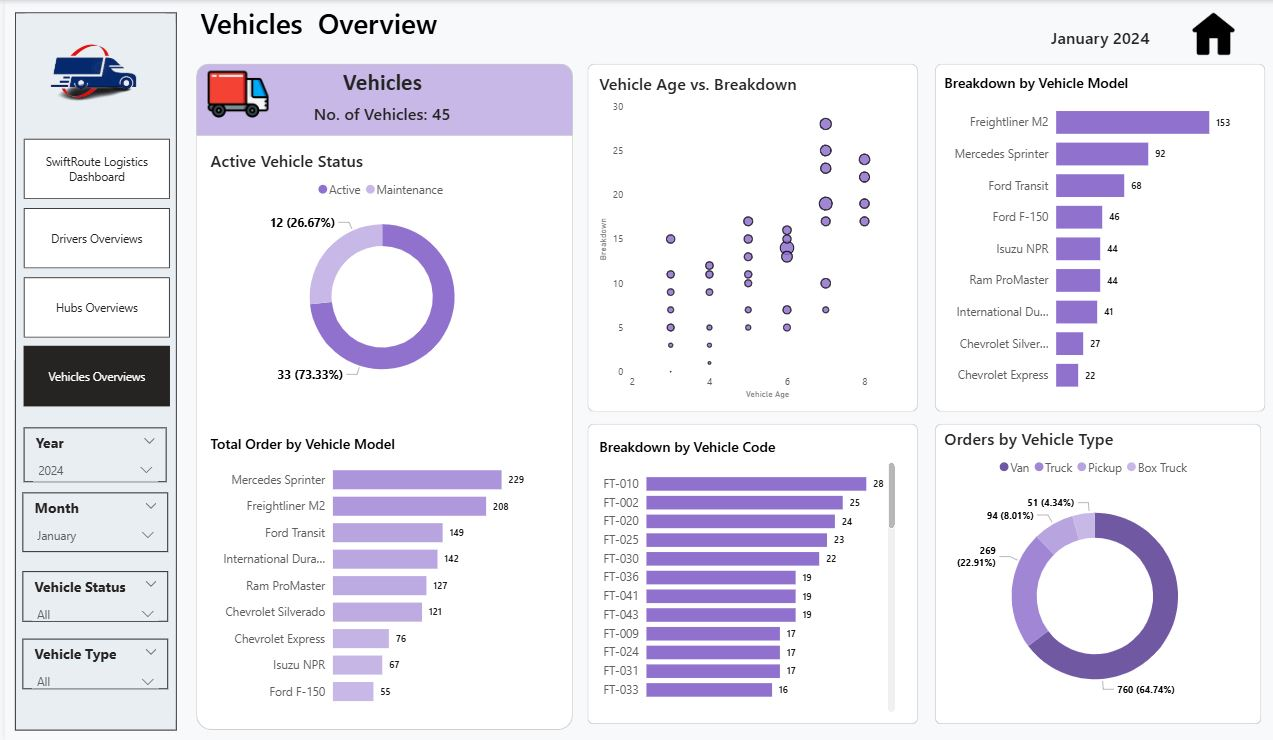

The dashboard page shown, as its layout file describes it:
{"tool":"powerbi","page":{"name":"Vehicles Overviews","canvas":[1450,850],"ordinal":3},"visuals":[{"type":"shape","box":[10.9,14,185,820.8],"z":0},{"type":"textbox","box":[219.2,0,505.2,57.5],"z":1000},{"type":"slicer","fields":{"Values":["Date Table.Year"]},"box":[21.5,488.4,163.2,62.2],"z":2000},{"type":"slicer","fields":{"Values":["Date Table.Month"]},"box":[19.9,563,166.3,68.4],"z":3000},{"type":"image","box":[20.2,24.9,164.8,113.5],"z":4000},{"type":"cardVisual","fields":{"Data":["Selected Measures.Year Month Title"]},"box":[1123.9,14,258,54.4],"z":5000},{"type":"shape","box":[665.3,73.1,377.7,397.9],"z":6000},{"type":"image","box":[1350.8,9.3,62.2,57.5],"z":7000},{"type":"slicer","fields":{"Values":["Vehicles.Vehicle Status"]},"box":[19.9,653.2,166.3,57.5],"z":8000},{"type":"slicer","fields":{"Values":["Orders.Vehicle Type"]},"box":[19.9,730.9,166.3,57.5],"z":9000},{"type":"shape","box":[219.2,73.1,430.6,761.7],"z":10000},{"type":"shape","box":[219.2,73.1,430.6,82.4],"z":11000},{"type":"cardVisual","fields":{"Data":["Selected Measures.No. Of Vehicles"]},"box":[320.2,101,222.3,54.4],"z":12000},{"type":"textbox","box":[342,73.1,180.3,52.9],"z":13000},{"type":"donutChart","title":"Active Vehicle  Status","fields":{"Category":["Vehicles.Vehicle Status"],"Y":["CountNonNull(Vehicles.Vehicle ID)"]},"box":[230.1,171,402.6,281.4],"z":14000},{"type":"barChart","title":"Total Order by Vehicle Model","fields":{"Y":["Selected Measures.Total Orders"],"Category":["Vehicles.Vehicle Model"]},"box":[230.1,495.9,402.6,323.3],"z":15000},{"type":"shape","box":[1063.3,73.1,377.7,397.9],"z":16000},{"type":"scatterChart","title":"Vehicle Age vs. Breakdown","fields":{"X":["Vehicles.Vehicle Age"],"Y":["Vehicles.Breakdown"],"Size":["Sum(Vehicles.Breakdown)1"]},"box":[674.6,82.4,360.6,377.7],"z":17000},{"type":"shape","box":[665.3,485,377.7,343.5],"z":18000},{"type":"barChart","title":"Breakdown by Vehicle Code","fields":{"Category":["Vehicles.Vehicle Code"],"Y":["Sum(Vehicles.Breakdown)"]},"box":[674.6,499,348.2,320.2],"z":19000},{"type":"barChart","title":"Breakdown by Vehicle Model","fields":{"Y":["Sum(Vehicles.Breakdown)"],"Category":["Vehicles.Vehicle Model"]},"box":[1069.5,82.4,366.9,379.3],"z":20000},{"type":"shape","box":[1063.3,485,373.1,343.5],"z":21000},{"type":"donutChart","title":"Orders by Vehicle Type","fields":{"Y":["Selected Measures.Total Orders"],"Category":["Orders.Vehicle Type"]},"box":[1069.5,488.1,354.4,331.1],"z":22000},{"type":"pageNavigator","box":[21.8,158.6,167.9,307.8],"z":23000},{"type":"image","box":[230.1,73.1,73.1,70],"z":24000}]}

Visuals, with their boxes in screenshot pixels (x1, y1, x2, y2), scaled from the page's 1450x850 canvas onto the 1273x740 screenshot:
shape: <region>10, 12, 172, 727</region>
textbox: <region>192, 0, 636, 50</region>
slicer - Date Table.Year: <region>19, 425, 162, 479</region>
slicer - Date Table.Month: <region>17, 490, 163, 550</region>
image: <region>18, 22, 162, 120</region>
cardVisual - Selected Measures.Year Month Title: <region>987, 12, 1213, 60</region>
shape: <region>584, 64, 916, 410</region>
image: <region>1186, 8, 1241, 58</region>
slicer - Vehicles.Vehicle Status: <region>17, 569, 163, 619</region>
slicer - Orders.Vehicle Type: <region>17, 636, 163, 686</region>
shape: <region>192, 64, 570, 727</region>
shape: <region>192, 64, 570, 135</region>
cardVisual - Selected Measures.No. Of Vehicles: <region>281, 88, 476, 135</region>
textbox: <region>300, 64, 459, 110</region>
"Active Vehicle  Status" donutChart: <region>202, 149, 555, 394</region>
"Total Order by Vehicle Model" barChart: <region>202, 432, 555, 713</region>
shape: <region>934, 64, 1265, 410</region>
"Vehicle Age vs. Breakdown" scatterChart: <region>592, 72, 909, 401</region>
shape: <region>584, 422, 916, 721</region>
"Breakdown by Vehicle Code" barChart: <region>592, 434, 898, 713</region>
"Breakdown by Vehicle Model" barChart: <region>939, 72, 1261, 402</region>
shape: <region>934, 422, 1261, 721</region>
"Orders by Vehicle Type" donutChart: <region>939, 425, 1250, 713</region>
pageNavigator: <region>19, 138, 167, 406</region>
image: <region>202, 64, 266, 125</region>
